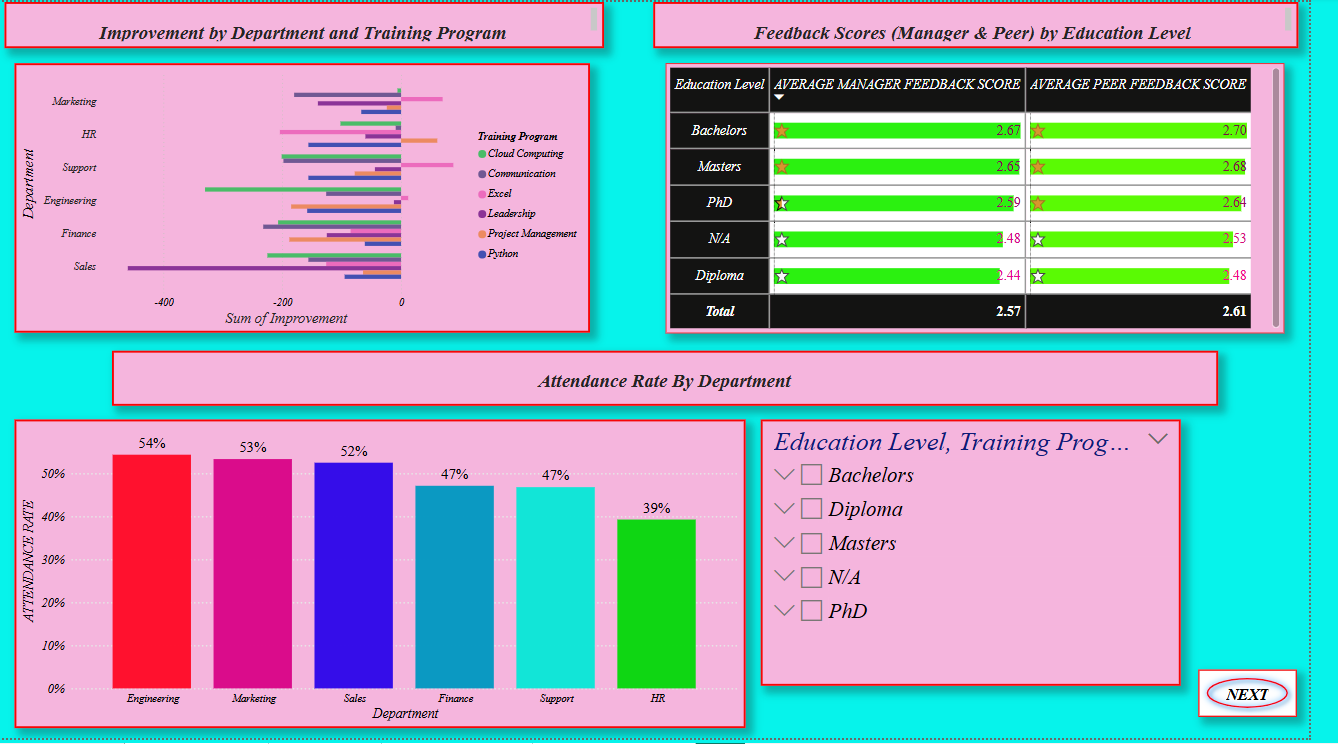

This screenshot's page, from the dashboard's own definition file:
{"tool":"powerbi","page":{"name":"Visualizations","canvas":[1660,931],"ordinal":0},"visuals":[{"type":"textbox","box":[9.5,0,758.2,58.4],"z":0},{"type":"clusteredBarChart","title":"Sum of Improvement by Department and Training Program","fields":{"Category":["Table1.Department"],"Y":["Sum(Table1.IMPROVEMENT)"],"Series":["Table1.Training Program"]},"box":[21.7,77.4,728.3,341],"z":1000},{"type":"textbox","box":[830.1,0,815.9,58.5],"z":2000},{"type":"pivotTable","fields":{"Rows":["Table1.Education Level"],"Values":["Table1.AVERAGE MANAGER FEEDBACK SCORE","Table1.AVERAGE PEER FEEDBACK SCORE"]},"box":[845.9,77.5,782.7,341.5],"z":3000},{"type":"textbox","box":[145.5,441.2,1399.4,69.6],"z":4000},{"type":"clusteredColumnChart","fields":{"Category":["Table1.Department"],"Y":["Table1.ATTENDANCE RATE"]},"box":[22.1,528.1,925,390.6],"z":5000},{"type":"slicer","fields":{"Values":["Table1.Education Level","Table1.Training Program"]},"box":[966.1,528.1,531.3,336.8],"z":6000},{"type":"actionButton","box":[1519.5,844.4,124.9,60.1],"z":6001}]}

Visuals, with their boxes in screenshot pixels (x1, y1, x2, y2), scaled from the page's 1660x931 canvas onto the 1338x744 screenshot:
textbox: locate(8, 0, 619, 47)
"Sum of Improvement by Department and Training Program" clusteredBarChart: locate(17, 62, 605, 334)
textbox: locate(669, 0, 1327, 47)
pivotTable - Table1.Education Level x Table1.AVERAGE MANAGER FEEDBACK SCORE: locate(682, 62, 1313, 335)
textbox: locate(117, 353, 1245, 408)
clusteredColumnChart - Table1.Department x Table1.ATTENDANCE RATE: locate(18, 422, 763, 734)
slicer - Table1.Education Level x Table1.Training Program: locate(779, 422, 1207, 691)
actionButton: locate(1225, 675, 1325, 723)
